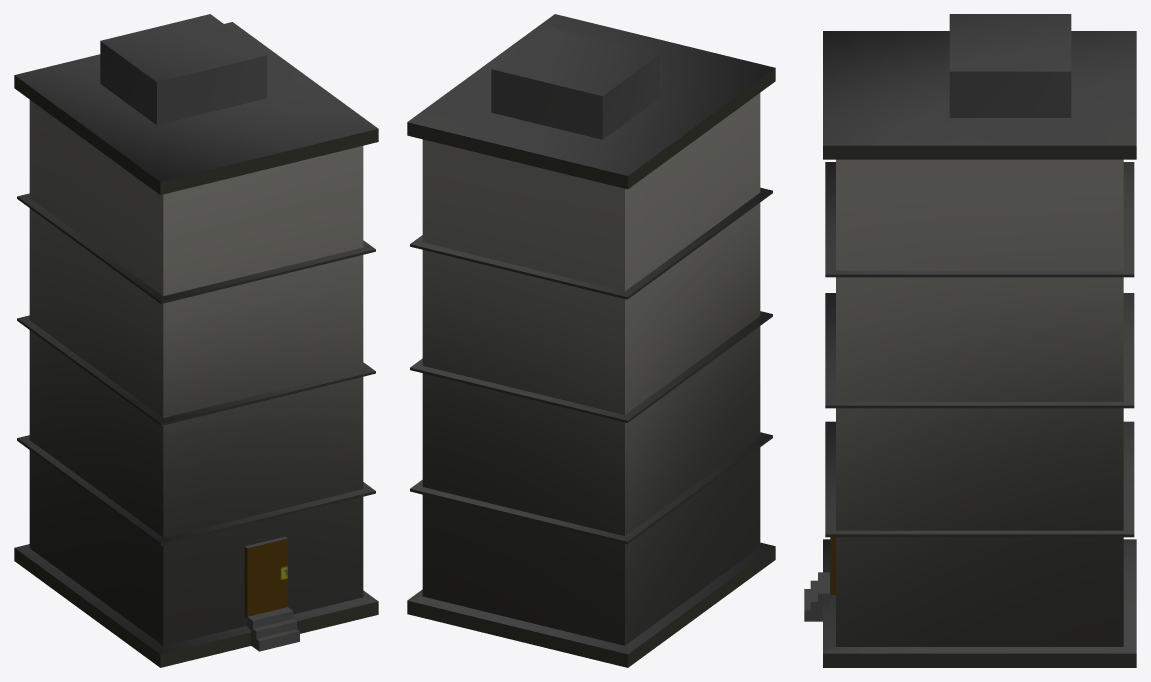
File: EdificioPro 2 Mediano.FBX
3 renders of one model, left to right at view 1: azimuth 30°, elevation 25°; view 2: azimuth 150°, elevation 25°; view 3: azimuth 270°, elevation 25°, orthographic. The views are drawn at different scales.
Parts seen in each view (by area): view 1: default; view 2: default; view 3: default.
Boxes of the visible parts, left/top/right/bottom form: default: left=14, top=14, right=378, bottom=667; default: left=407, top=14, right=775, bottom=667; default: left=804, top=14, right=1136, bottom=667.
Size of the model in its own units: 1.88 by 4.36 by 2.31.
1 material, 1 textured.
